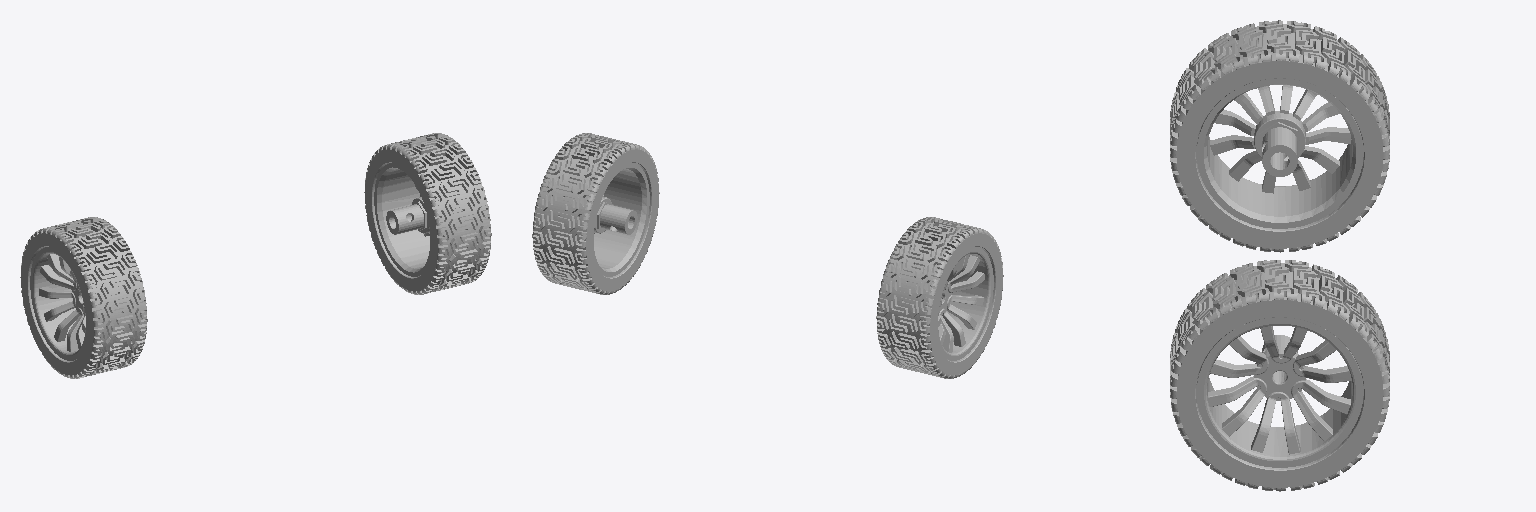
robot.urdf — beetle_urdf:
<?xml version="1.0" encoding="utf-8"?>
<!-- This URDF was automatically created by SolidWorks to URDF Exporter! Originally created by Stephen Brawner (brawner@gmail.com) 
     Commit Version: 1.6.0-4-g7f85cfe  Build Version: 1.6.7995.38578
     For more information, please see http://wiki.ros.org/sw_urdf_exporter -->
<robot
  name="beetle_urdf">
  <link
    name="base_link">
    <inertial>
      <origin
        xyz="-3.20122165886616E-05 0.000122751306016911 0.0519650074449112"
        rpy="0 0 0" />
      <mass
        value="0.902230635099953" />
      <inertia
        ixx="0.00208564262830971"
        ixy="8.40924600301939E-06"
        ixz="2.92452912398578E-06"
        iyy="0.00217629616815341"
        iyz="3.58348854709201E-06"
        izz="0.00382337924022084" />
    </inertial>
    <visual>
      <origin
        xyz="0 0 0"
        rpy="0 0 0" />
      <geometry>
        <mesh
          filename="package://beetlebot_description/meshes/base_link.STL" />
      </geometry>
      <material
        name="">
        <color
          rgba="0.752941176470588 0.752941176470588 0.752941176470588 1" />
      </material>
    </visual>

     <!-- Main chassis collision -->
  <collision name="chassis_collision">
    <origin xyz="0 0 0.02555" rpy="0 0 0"/>
    <geometry>
      <box size="0.2203 0.2203 0.0755"/>
    </geometry>
  </collision>

  <!-- Front caster -->
  <collision name="front_caster_collision">
    <origin xyz="0 -0.0842 -0.00625" rpy="0 0 0"/>
    <geometry>
      <sphere radius="0.012"/>
    </geometry>
  </collision>

  <!-- Rear caster -->
  <collision name="rear_caster_collision">
    <origin xyz="0 0.0842 -0.00625" rpy="0 0 0"/>
    <geometry>
      <sphere radius="0.012"/>
    </geometry>
  </collision>


  </link>
  <link
    name="left">
    <inertial>
      <origin
        xyz="-1.4817E-09 2.6746E-10 0.0041022"
        rpy="0 0 0" />
      <mass
        value="0.03468" />
      <inertia
        ixx="1.5221E-05"
        ixy="-4.9032E-10"
        ixz="2.0626E-13"
        iyy="1.522E-05"
        iyz="-4.4755E-14"
        izz="2.578E-05" />
    </inertial>
    <visual>
      <origin
        xyz="0 0 0"
        rpy="0 0 0" />
      <geometry>
        <mesh
          filename="package://beetlebot_description/meshes/left.STL" />
      </geometry>
      <material
        name="">
        <color
          rgba="0.75294 0.75294 0.75294 1" />
      </material>
    </visual>
    <collision>
      <origin xyz="0 0 0" rpy="0 0 0" />
      <geometry>
        <!-- radius must match your 32.5mm wheel. Adjust length to match wheel thickness -->
        <cylinder radius="0.0325" length="0.02" /> 
      </geometry>
    </collision>
  </link>
  <joint
    name="j1"
    type="continuous">
    <origin
      xyz="0.0835000000000001 0 0.01425"
      rpy="-1.5707963267949 0 -1.5707963267949" />
    <parent
      link="base_link" />
    <child
      link="left" />
    <axis
      xyz="0 0 1" />
  </joint>
  <link
    name="right">
    <inertial>
      <origin
        xyz="1.0241E-09 1.1425E-09 0.0041022"
        rpy="0 0 0" />
      <mass
        value="0.03468" />
      <inertia
        ixx="1.5221E-05"
        ixy="4.0618E-10"
        ixz="-1.5048E-13"
        iyy="1.522E-05"
        iyz="-1.522E-13"
        izz="2.578E-05" />
    </inertial>
    <visual>
      <origin
        xyz="0 0 0"
        rpy="0 0 0" />
      <geometry>
        <mesh
          filename="package://beetlebot_description/meshes/right.STL" />
      </geometry>
      <material
        name="">
        <color
          rgba="0.75294 0.75294 0.75294 1" />
      </material>
    </visual>
    <collision>
      <origin xyz="0 0 0" rpy="0 0 0" />
      <geometry>
        <cylinder radius="0.0325" length="0.02" />
      </geometry>
    </collision>
  </link>
  <joint
    name="j2"
    type="continuous">
    <origin
      xyz="-0.0832999999999999 0 0.0142500000000002"
      rpy="1.5707963267949 0 -1.5707963267949" />
    <parent
      link="base_link" />
    <child
      link="right" />
    <axis
      xyz="0 0 -1" />
  </joint>

  <!-- Make the chassis slippery so it doesn't anchor the robot -->
  <!-- <gazebo reference="base_link">
    <mu1>0.0</mu1>
    <mu2>0.0</mu2>
  </gazebo> -->


  <!-- ============================================== -->
  <!-- Base Footprint (Ground Projection)             -->
  <!-- ============================================== -->
  <!-- <link name="base_footprint"/>

  <joint name="base_footprint_joint" type="fixed">
    <parent link="base_footprint"/>
    <child link="base_link"/> -->
    <!-- Z-offset = Wheel Radius (0.0325) - Wheel Joint Z (0.01425) = 0.01825 -->
    <!-- <origin xyz="0 0 0.01825" rpy="0 0 0"/>
  </joint>
 -->


  <!-- ============================================== -->
  <!-- Modern Gazebo (ros_gz) Plugins                 -->
  <!-- ============================================== -->
  <gazebo>
    
    <!-- Differential Drive Plugin -->
    <plugin filename="gz-sim-diff-drive-system" name="gz::sim::systems::DiffDrive">
      <left_joint>j1</left_joint>
      <right_joint>j2</right_joint>
      <!-- Wheel separation based on URDF j1 x(0.0835) - j2 x(-0.0833) -->
      <!-- <wheel_separation>0.1668</wheel_separation> -->
      <!-- <wheel_radius>0.0325</wheel_radius> -->

      <wheel_separation>0.1668</wheel_separation> <!-- 238 mm -->
      <wheel_radius>0.0325</wheel_radius>       <!-- 65 mm / 2 = 32.5 mm -->

      <odom_publish_frequency>50</odom_publish_frequency>
      <topic>/cmd_vel</topic>
      <odom_topic>/odom</odom_topic>
      <tf_topic>/tf</tf_topic>
      <frame_id>odom</frame_id>
      <child_frame_id>base_link</child_frame_id>
    </plugin>

    <!-- Joint State Publisher Plugin -->
    <plugin filename="gz-sim-joint-state-publisher-system" name="gz::sim::systems::JointStatePublisher">
      <topic>/joint_states</topic>
    </plugin>

  </gazebo>
  




</robot>

--- What the picture shows (computed from the rendered views, not written in the file) ---
Views: 3 orthographic renders of the robot side by side, from view 1: azimuth 30°, elevation 25°; view 2: azimuth 150°, elevation 25°; view 3: azimuth 270°, elevation 25°.
Robot: beetle_urdf — 3 links, 2 joints (2 continuous); root link base_link; default pose: every joint at zero.
Visible links, largest first — view 1: left, right; view 2: right, left; view 3: right, left.
Boxes of the visible links, bbox=[...] form: left: bbox=[364, 133, 491, 294]; right: bbox=[20, 217, 147, 378]; right: bbox=[876, 217, 1003, 378]; left: bbox=[532, 133, 659, 294]; right: bbox=[1170, 20, 1389, 252]; left: bbox=[1170, 260, 1389, 491].
Bounding box of the posed robot: 0.2018 × 0.068 × 0.068 m (x, y, z).
2 mesh visuals loaded from 3 distinct referenced files (2 binary STL); not drawn: 1 (reference not matched to a file when rendering).
